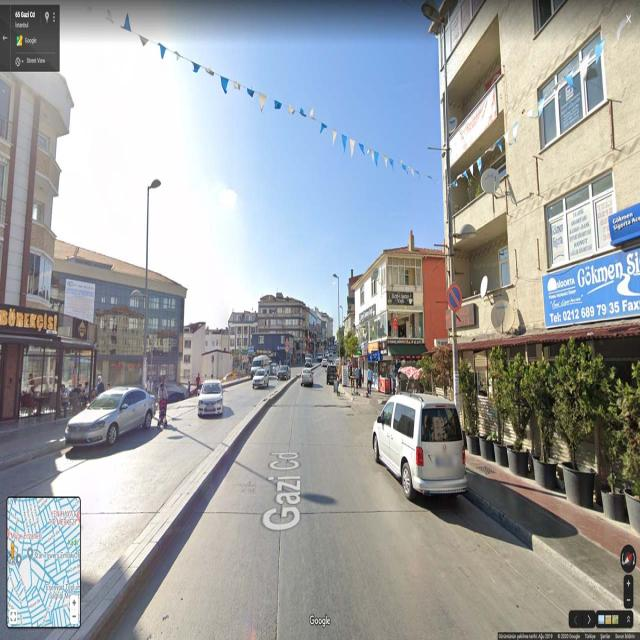parkyasak: (446, 284, 464, 314)
